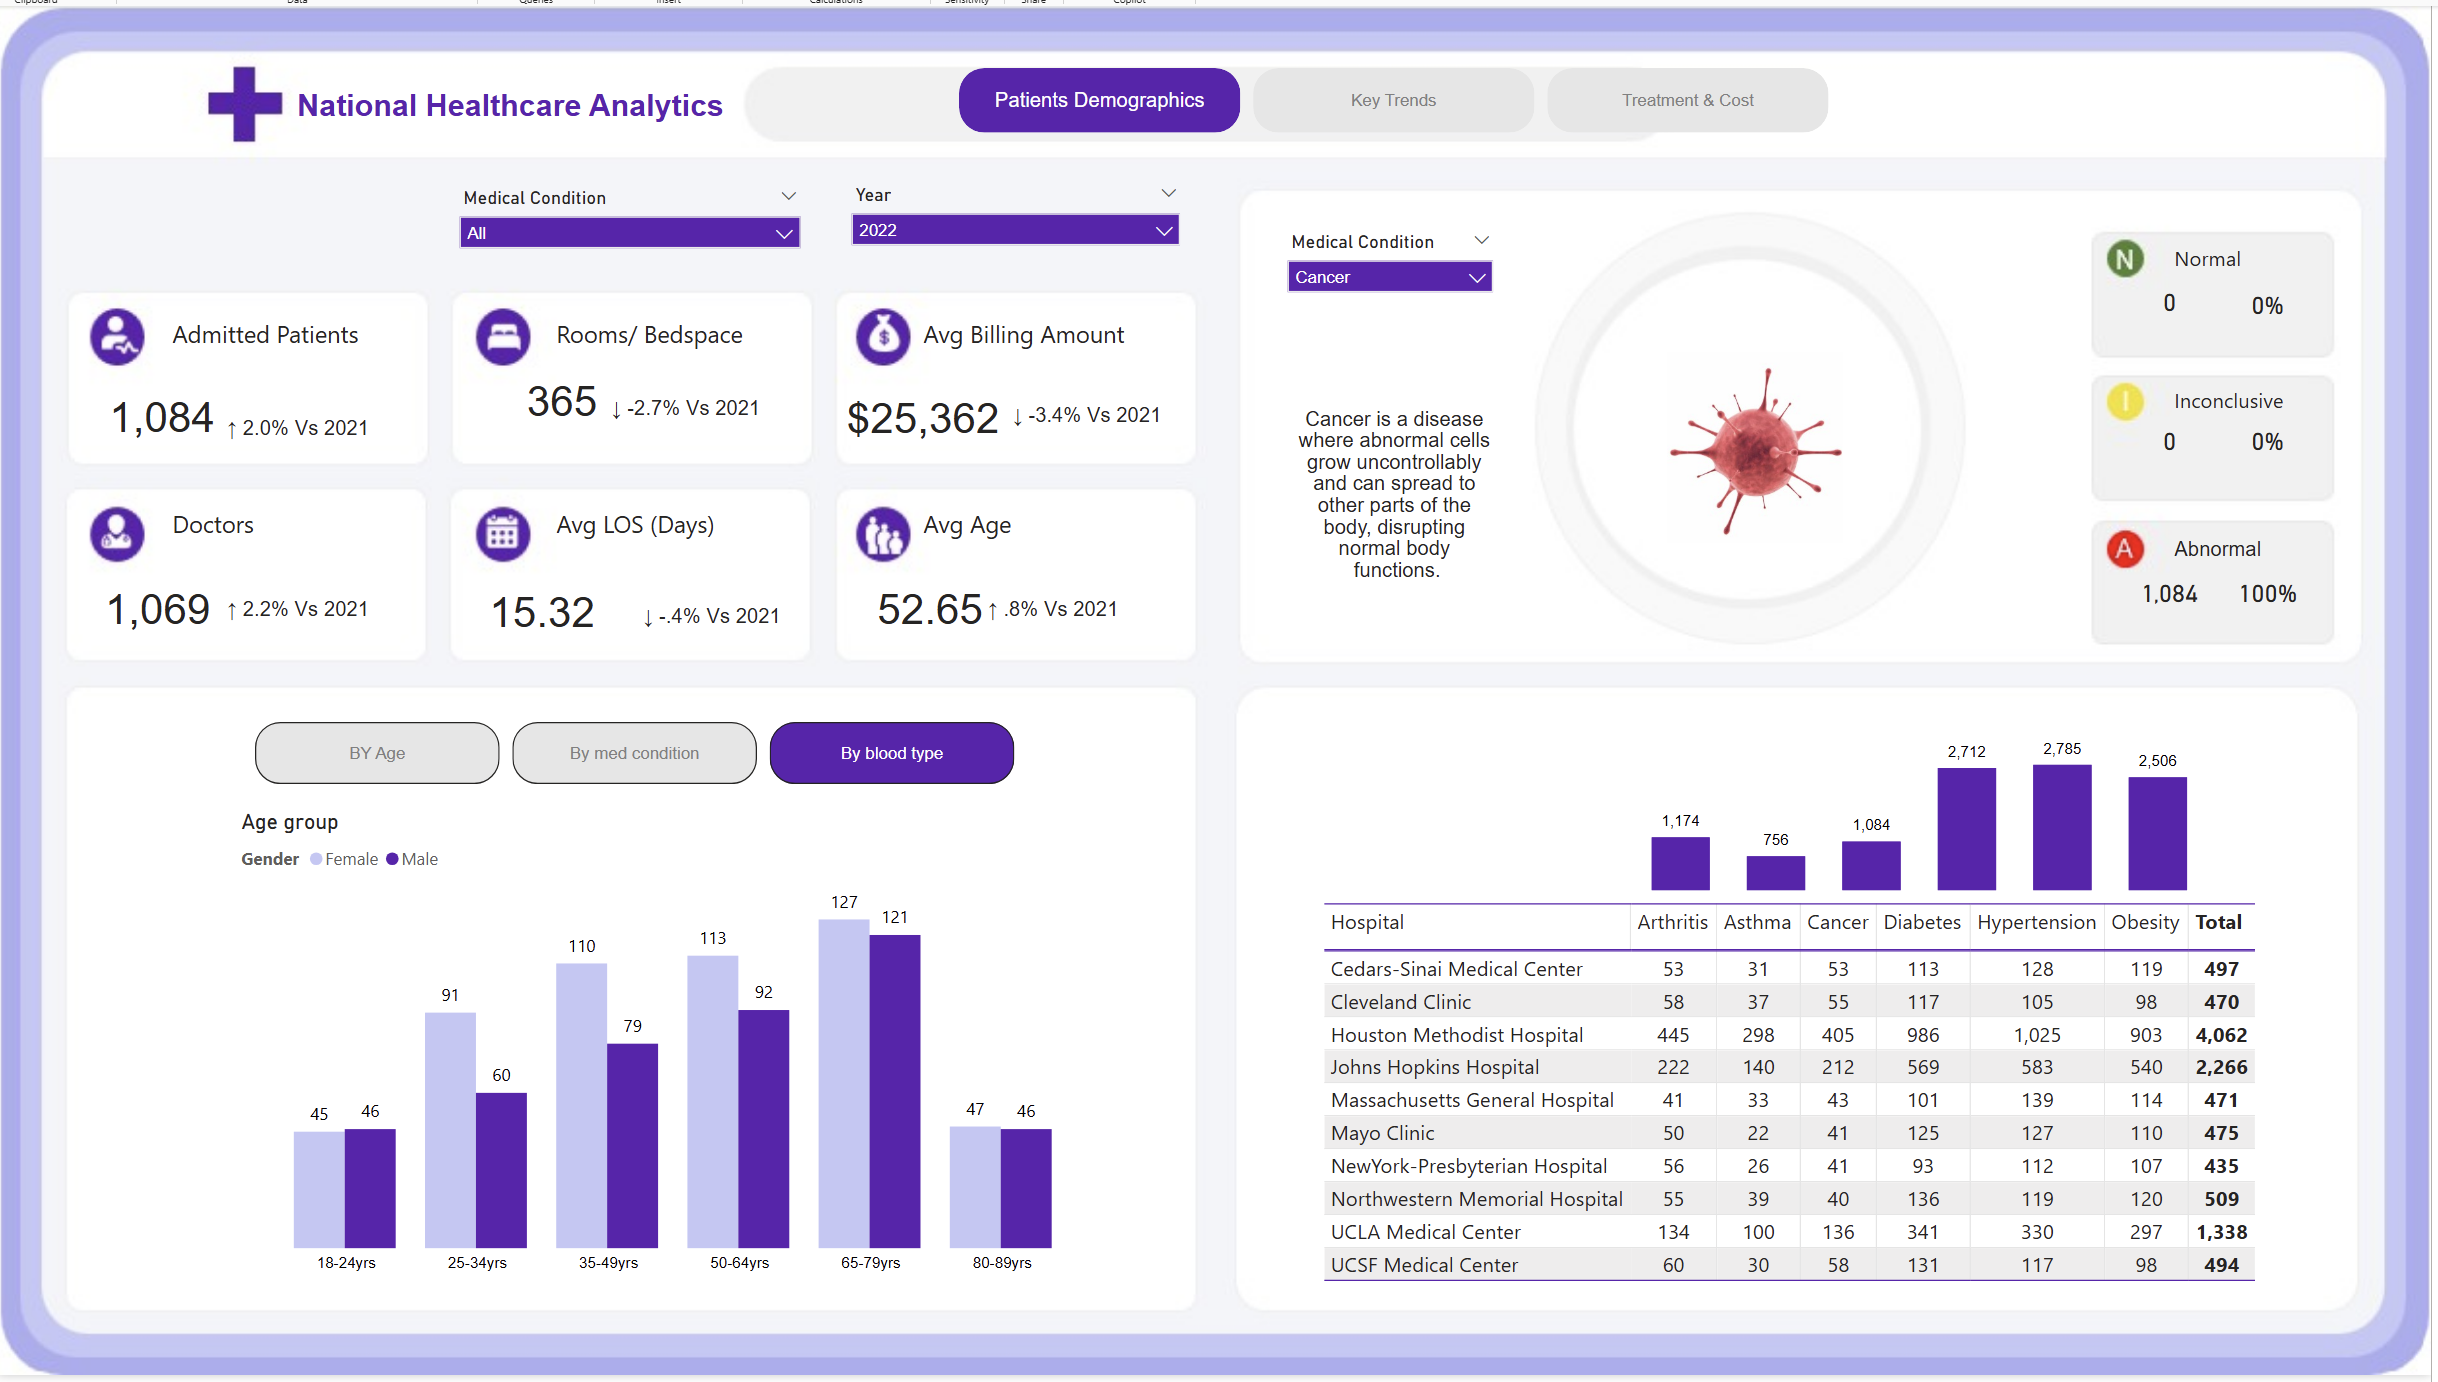

Layout of this report page (visuals, bound fields, positions):
{"tool":"powerbi","page":{"name":"Patients Demographics","canvas":[1920,1080],"ordinal":0},"visuals":[{"type":"card","fields":{"Values":["DAX.Admitted Patients"]},"box":[22.8,266.7,214.7,113.9],"z":0},{"type":"clusteredColumnChart","title":"Age group","fields":{"Y":["DAX.Admitted Patients"],"Category":["HealthData.Age Group"],"Series":["HealthData.Gender"]},"box":[187.7,633.3,693,374.8],"z":0,"group":"g1"},{"type":"textbox","box":[133.4,240.7,198.4,42.3],"z":1000},{"type":"textbox","box":[435.9,240.7,191.9,42.3],"z":3000},{"type":"textbox","box":[725.4,240.7,208.2,42.3],"z":4000},{"type":"textbox","box":[725.4,390.4,218,55.3],"z":5000},{"type":"textbox","box":[435.9,390.4,169.2,65.1],"z":6000},{"type":"textbox","box":[133.4,390.4,198.4,55.3],"z":7000},{"type":"card","fields":{"Values":["DAX.Rooms"]},"box":[337.6,263.7,216.3,94.9],"z":8000},{"type":"card","fields":{"Values":["DAX.Avg Billing Amt"]},"box":[622.4,269,216.3,110.8],"z":9000},{"type":"card","fields":{"Values":["DAX.Doctors"]},"box":[21.1,416.7,211,116],"z":10000},{"type":"card","fields":{"Values":["DAX.Avg LOS"]},"box":[321.8,422,216.3,110.8],"z":11000},{"type":"card","fields":{"Values":["DAX.Average age"]},"box":[627.7,416.7,216.3,116],"z":12000},{"type":"card","fields":{"Values":["DAX.Adm YoY"]},"box":[137.1,295.4,200.4,79.1],"z":13000},{"type":"card","fields":{"Values":["DAX.Room YoY"]},"box":[458.9,279.6,168.8,79.1],"z":14000},{"type":"card","fields":{"Values":["DAX.Doc YoY"]},"box":[153,437.8,168.8,79.1],"z":15000},{"type":"card","fields":{"Values":["DAX.LOS YoY"]},"box":[464.2,443.1,200.4,79.1],"z":16000},{"type":"card","fields":{"Values":["DAX.Age YoY"]},"box":[733.2,437.8,200.4,79.1],"z":17000},{"type":"card","fields":{"Values":["DAX.Bill YoY"]},"box":[759.6,284.8,200.4,79.1],"z":18000},{"type":"slicer","fields":{"Values":["Calendar.Year"]},"box":[664.2,135.8,279.2,69.8],"z":19000},{"type":"tableEx","fields":{"Values":["DimCondition.URL 2"]},"box":[1301.2,240.7,169.2,195.2],"z":20000},{"type":"slicer","fields":{"Values":["DimCondition.Medical Condition"]},"box":[1008.4,172.4,182.2,68.3],"z":21000},{"type":"card","fields":{"Values":["Min(DimCondition.Description)"]},"box":[1019.5,285.4,170.7,195.1],"z":22000},{"type":"card","fields":{"Values":["DAX.Normal Results"]},"box":[1658.5,187.8,109.8,92.7],"z":23000},{"type":"card","fields":{"Values":["DAX.Inconclusive Results"]},"box":[1658.5,297.6,109.8,92.7],"z":24000},{"type":"card","fields":{"Values":["DAX.Abnormal Results"]},"box":[1658.5,417.1,109.8,92.7],"z":25000},{"type":"card","fields":{"Values":["DAX.Normal Result %"]},"box":[1736.6,190.2,109.8,92.7],"z":26000},{"type":"card","fields":{"Values":["DAX.Inconclusive %"]},"box":[1736.6,297.6,109.8,92.7],"z":27000},{"type":"card","fields":{"Values":["DAX.AbnormalR %"]},"box":[1736.6,417.1,109.8,92.7],"z":28000},{"type":"textbox","box":[1712.2,182.9,207.3,41.5],"z":29000},{"type":"textbox","box":[1712.2,295.1,207.3,41.5],"z":30000},{"type":"textbox","box":[1712.2,414.6,207.3,41.5],"z":31000},{"type":"pivotTable","fields":{"Rows":["HealthData.Hospital"],"Columns":["DimCondition.Medical Condition"],"Values":["DAX.Admitted Patients"]},"box":[1041.9,703.2,748.4,319.4],"z":32000},{"type":"clusteredColumnChart","fields":{"Y":["DAX.Admitted Patients"],"Category":["DimCondition.Medical Condition"]},"box":[1300,564.5,435.5,138.7],"z":33000},{"type":"slicer","fields":{"Values":["DimCondition.Medical Condition"]},"box":[354.7,137.7,288.7,67.9],"z":34000},{"type":"pageNavigator","box":[759,48.9,688.4,51.6],"z":35000},{"type":"group","id":"g1","title":"Demographics","box":[187.7,630.2,693.5,391.9],"z":36000},{"type":"bookmarkNavigator","box":[203.6,564.7,600.6,49.6],"z":37000},{"type":"textbox","box":[232.2,59.7,482,50.2],"z":37001}]}

Visuals, with their boxes on the page's 1920x1080 design canvas (x1, y1, x2, y2). These are canvas units, not pixel positions in the 2438x1382 screenshot, which may show the page scaled, cropped or inside an application window:
card - DAX.Admitted Patients: bbox(23, 267, 238, 381)
"Age group" clusteredColumnChart: bbox(188, 633, 881, 1008)
textbox: bbox(133, 241, 332, 283)
textbox: bbox(436, 241, 628, 283)
textbox: bbox(725, 241, 934, 283)
textbox: bbox(725, 390, 943, 446)
textbox: bbox(436, 390, 605, 456)
textbox: bbox(133, 390, 332, 446)
card - DAX.Rooms: bbox(338, 264, 554, 359)
card - DAX.Avg Billing Amt: bbox(622, 269, 839, 380)
card - DAX.Doctors: bbox(21, 417, 232, 533)
card - DAX.Avg LOS: bbox(322, 422, 538, 533)
card - DAX.Average age: bbox(628, 417, 844, 533)
card - DAX.Adm YoY: bbox(137, 295, 338, 374)
card - DAX.Room YoY: bbox(459, 280, 628, 359)
card - DAX.Doc YoY: bbox(153, 438, 322, 517)
card - DAX.LOS YoY: bbox(464, 443, 665, 522)
card - DAX.Age YoY: bbox(733, 438, 934, 517)
card - DAX.Bill YoY: bbox(760, 285, 960, 364)
slicer - Calendar.Year: bbox(664, 136, 943, 206)
tableEx - DimCondition.URL 2: bbox(1301, 241, 1470, 436)
slicer - DimCondition.Medical Condition: bbox(1008, 172, 1191, 241)
card - Min(DimCondition.Description): bbox(1020, 285, 1190, 480)
card - DAX.Normal Results: bbox(1658, 188, 1768, 280)
card - DAX.Inconclusive Results: bbox(1658, 298, 1768, 390)
card - DAX.Abnormal Results: bbox(1658, 417, 1768, 510)
card - DAX.Normal Result %: bbox(1737, 190, 1846, 283)
card - DAX.Inconclusive %: bbox(1737, 298, 1846, 390)
card - DAX.AbnormalR %: bbox(1737, 417, 1846, 510)
textbox: bbox(1712, 183, 1920, 224)
textbox: bbox(1712, 295, 1920, 337)
textbox: bbox(1712, 415, 1920, 456)
pivotTable - HealthData.Hospital x DimCondition.Medical Condition: bbox(1042, 703, 1790, 1023)
clusteredColumnChart - DAX.Admitted Patients x DimCondition.Medical Condition: bbox(1300, 564, 1736, 703)
slicer - DimCondition.Medical Condition: bbox(355, 138, 643, 206)
pageNavigator: bbox(759, 49, 1447, 100)
"Demographics" group: bbox(188, 630, 881, 1022)
bookmarkNavigator: bbox(204, 565, 804, 614)
textbox: bbox(232, 60, 714, 110)
